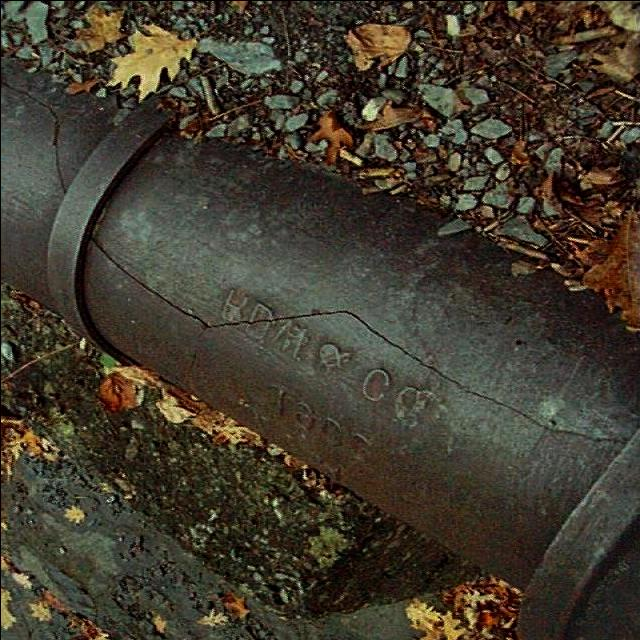defect: (89, 235, 634, 446), (2, 76, 69, 197)
